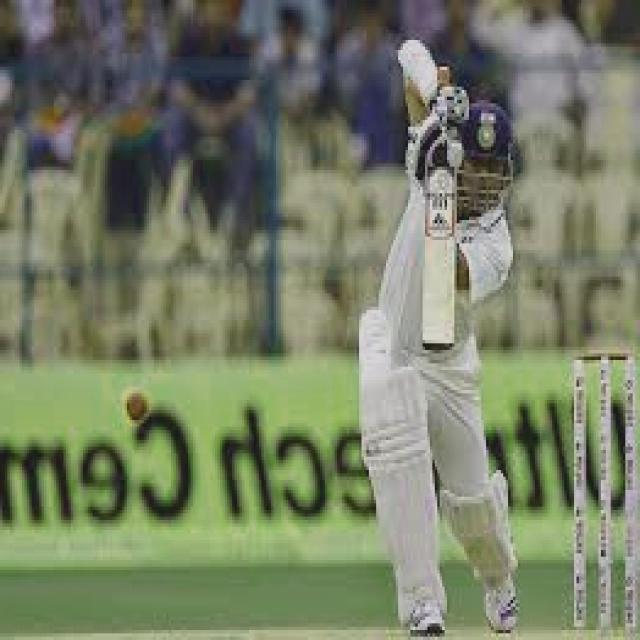toe: (419, 299, 458, 354)
